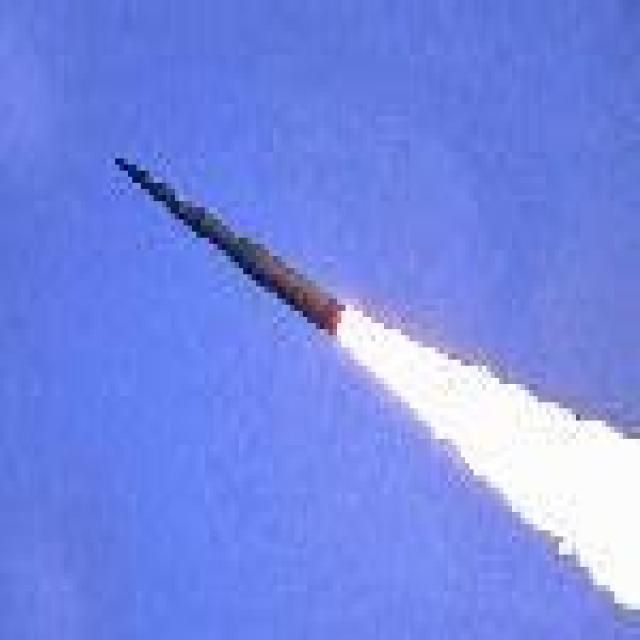missile: (109, 153, 354, 337)
